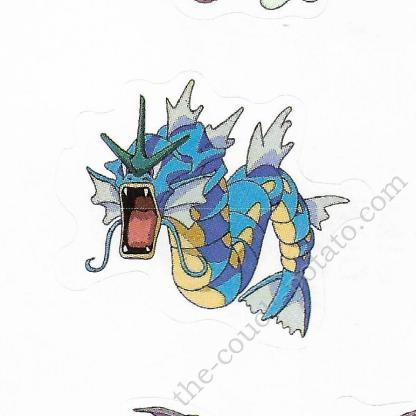Gyarados: (64, 91, 326, 357)
